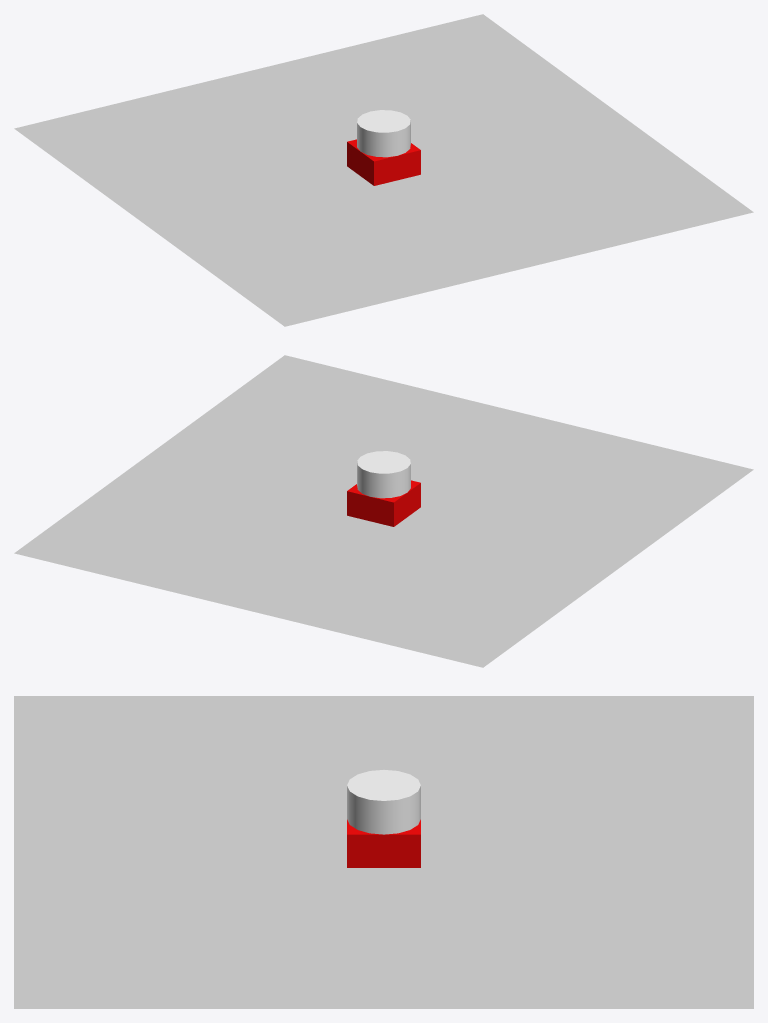
3 renders of one model, top to bottom at view 1: azimuth 30°, elevation 25°; view 2: azimuth 150°, elevation 25°; view 3: azimuth 270°, elevation 25°, orthographic. The views are drawn at different scales.
Parts seen in each view (by area): view 1: Plane, Cylinder, Cube; view 2: Plane, Cylinder, Cube; view 3: Plane, Cylinder, Cube.
Boxes of the visible parts, bbox=[...] form: Plane: bbox=[14, 14, 753, 326]; Cylinder: bbox=[357, 110, 410, 157]; Cube: bbox=[347, 139, 420, 185]; Plane: bbox=[14, 355, 753, 667]; Cylinder: bbox=[357, 451, 410, 498]; Cube: bbox=[347, 480, 420, 526]; Plane: bbox=[14, 696, 753, 1008]; Cylinder: bbox=[347, 770, 420, 834]; Cube: bbox=[347, 819, 420, 867].
Size of the model in its own units: 20 by 4 by 20.
